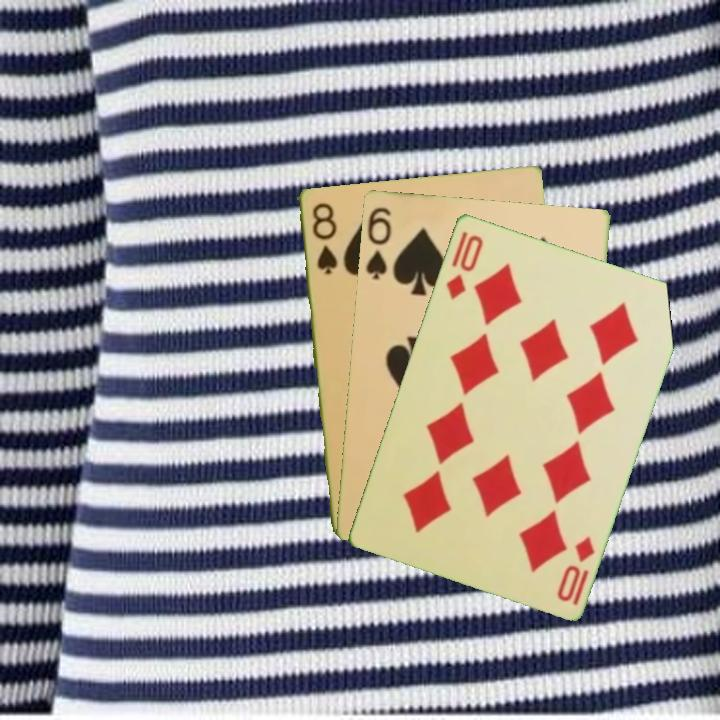10d: (553, 532, 598, 608), (442, 231, 486, 302)
6s: (362, 203, 394, 282)
8s: (308, 198, 340, 277)
